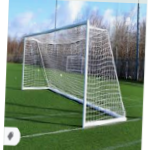goals: (21, 18, 129, 131)
